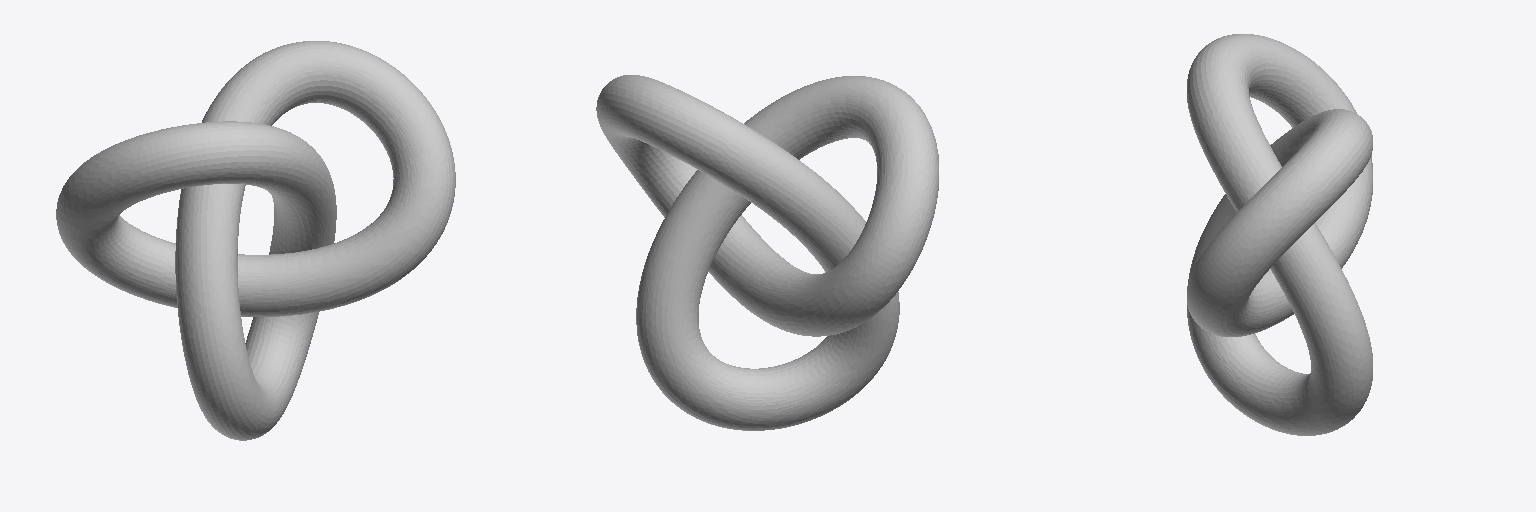
Rendered from tangle3.obj.
3 views of the same model, side by side, from view 1: azimuth 30°, elevation 25°; view 2: azimuth 150°, elevation 25°; view 3: azimuth 270°, elevation 25° (orthographic).
Visible parts, largest first — view 1: Sweep; view 2: Sweep; view 3: Sweep.
Part boxes in pixels (x1,y1,x2,y2): Sweep: (56, 41, 455, 440); Sweep: (596, 75, 938, 430); Sweep: (1187, 34, 1372, 435).
Size of the model in its own units: 324 by 303 by 150.